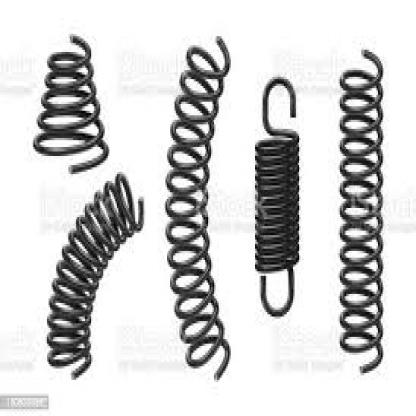FOD: (154, 22, 239, 386), (43, 173, 146, 381), (333, 27, 390, 378), (250, 62, 306, 340), (32, 30, 111, 178)
